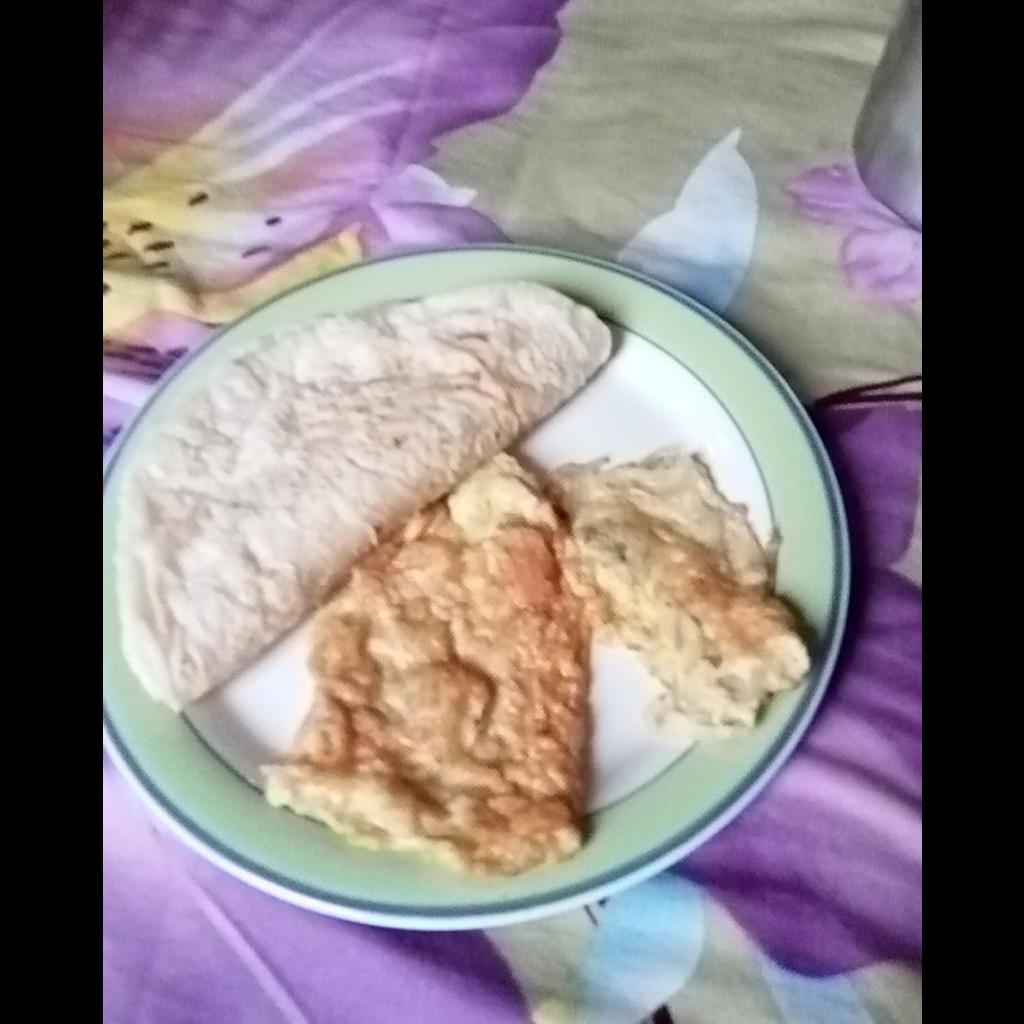egg-poached: (259, 446, 812, 881)
ruti: (116, 279, 611, 715)
